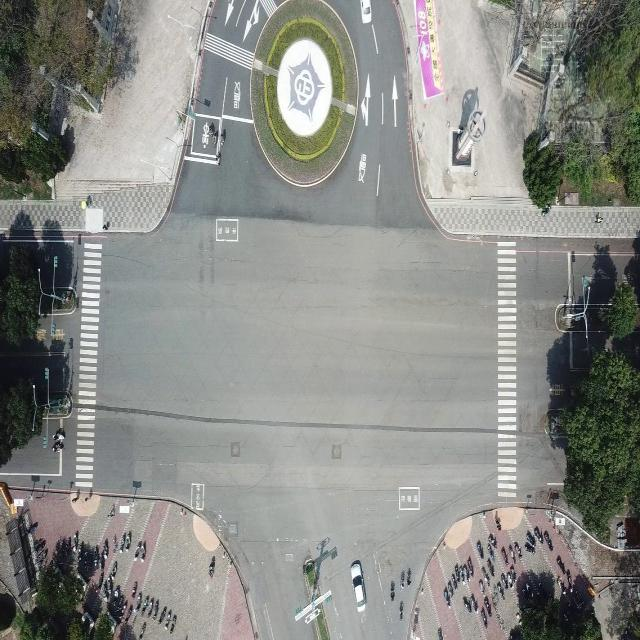bike: (556, 554, 566, 575), (526, 532, 535, 555), (487, 533, 496, 556), (445, 580, 453, 605), (400, 566, 409, 588), (487, 555, 495, 579), (467, 593, 476, 614), (545, 531, 553, 554), (138, 540, 146, 563), (388, 580, 396, 602), (496, 580, 504, 602), (502, 545, 510, 567), (476, 539, 484, 561), (36, 535, 46, 552), (168, 611, 175, 635), (455, 563, 462, 587), (101, 538, 108, 562), (481, 607, 488, 630), (479, 569, 486, 592), (512, 541, 519, 562), (28, 517, 37, 533), (152, 596, 158, 620), (505, 569, 512, 589), (110, 559, 117, 579), (208, 557, 215, 577), (122, 529, 128, 552), (145, 595, 151, 618), (161, 605, 167, 626), (72, 528, 78, 549), (436, 624, 444, 639), (132, 581, 138, 601), (468, 555, 473, 579), (398, 599, 403, 619)
car: (351, 560, 365, 607)
